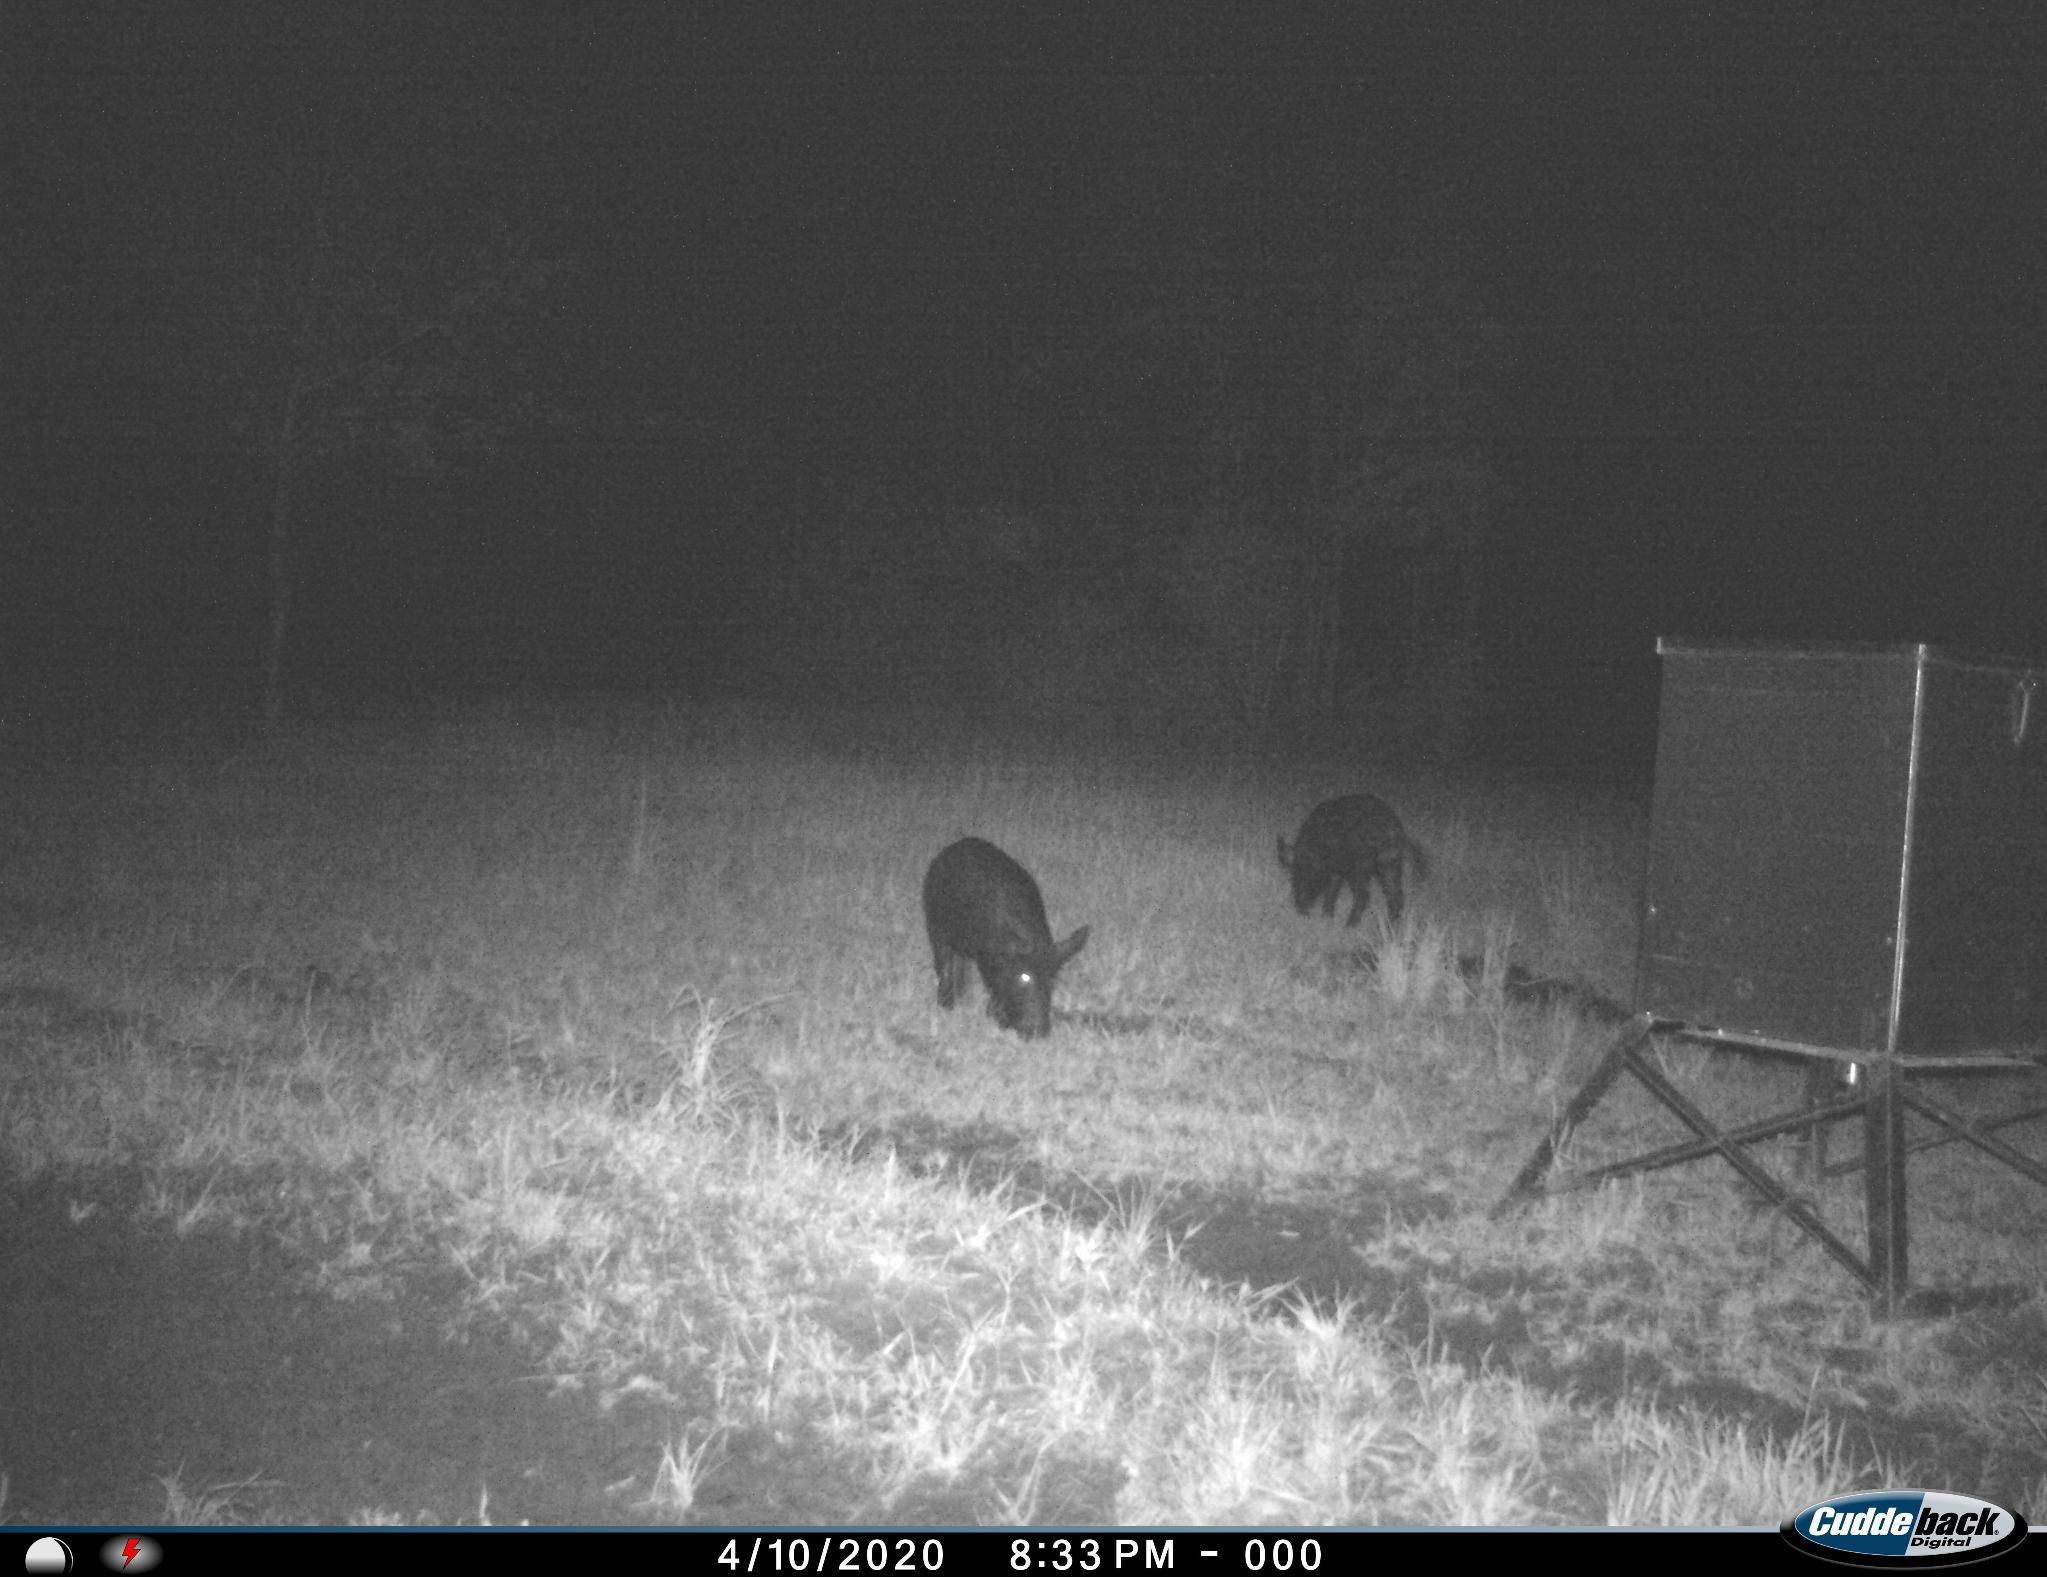Hog: (919, 833, 1093, 1057), (1267, 787, 1434, 944)
